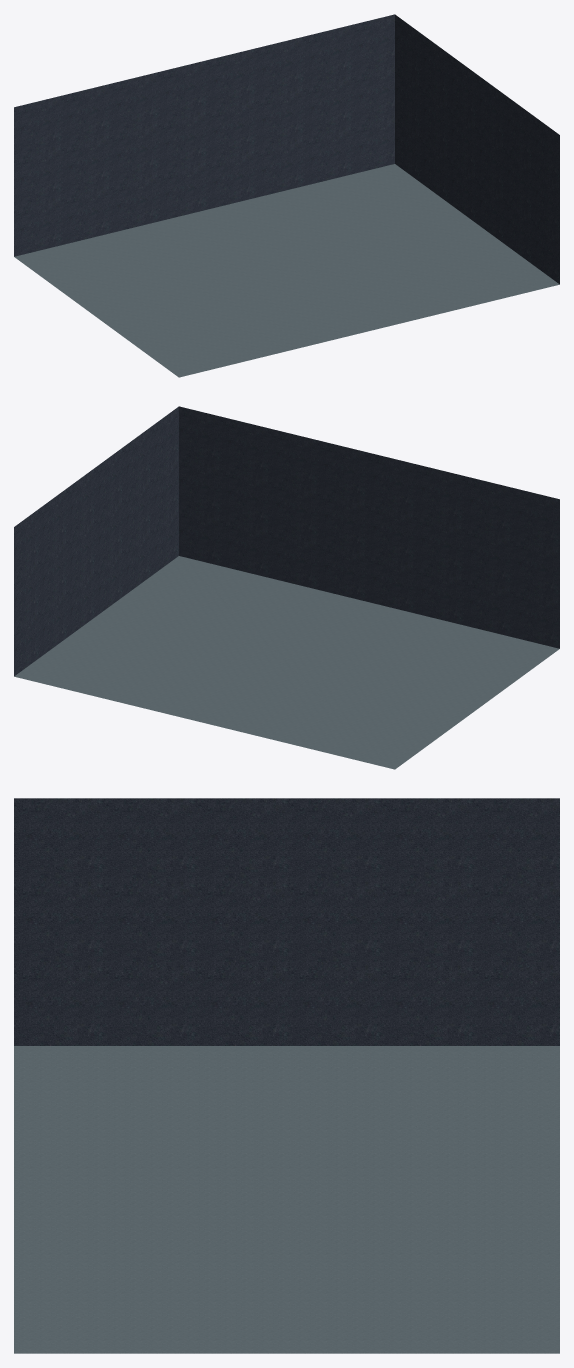
The model's file is Vertigo507.gltf.
3 views of the same model, one above another, from view 1: azimuth 30°, elevation 25°; view 2: azimuth 150°, elevation 25°; view 3: azimuth 270°, elevation 25° (orthographic). The views are drawn at different scales.
Parts seen in each view (by area): view 1: Floor, BackWall, LeftWall; view 2: Floor, FrontWall, LeftWall; view 3: Floor, RightWall.
Boxes of the visible parts, x1,y1,x2,y2 form: Floor: (14, 164, 559, 377); BackWall: (14, 14, 394, 256); LeftWall: (395, 14, 559, 284); Floor: (14, 556, 559, 769); FrontWall: (179, 406, 559, 648); LeftWall: (14, 406, 178, 676); Floor: (14, 1046, 559, 1353); RightWall: (14, 798, 559, 1045).
Size of the model in its own units: 12 by 4.5 by 9.
3 materials, 3 textured.
